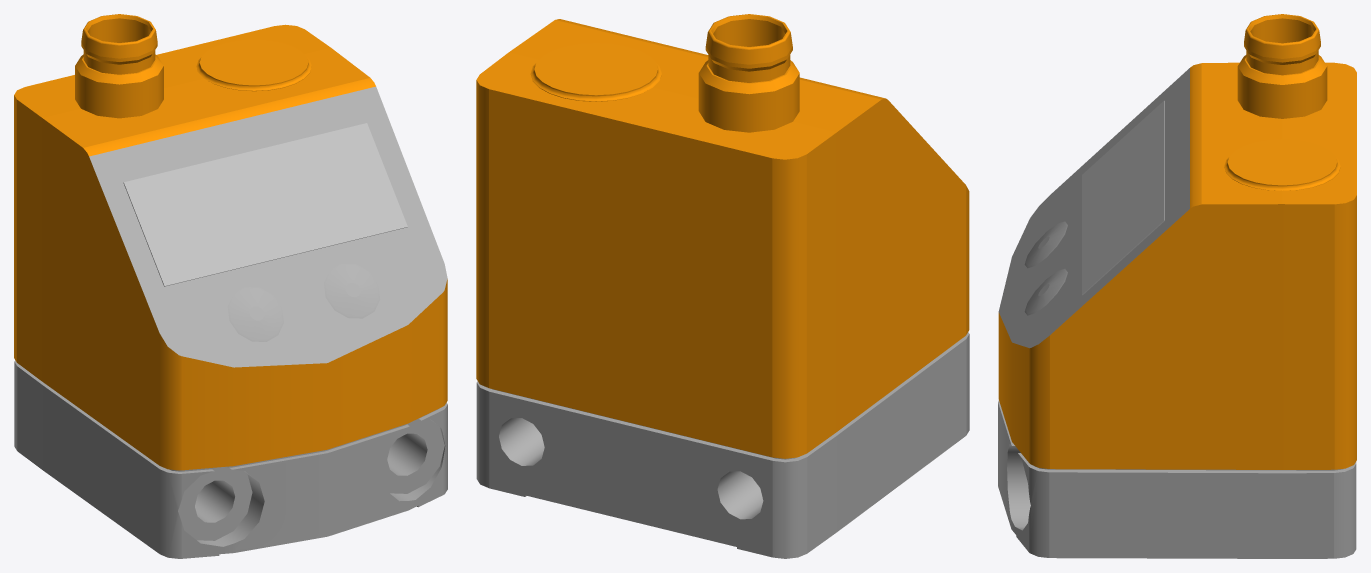
The picture shows the model from 3 angles, left to right: view 1: azimuth 30°, elevation 25°; view 2: azimuth 150°, elevation 25°; view 3: azimuth 270°, elevation 25°; orthographic projection. The views are drawn at different scales.
Parts seen in each view (by area): view 1: PQ3834_1; view 2: PQ3834_1; view 3: PQ3834_1.
Part boxes in pixels (x1,y1,x2,y2): PQ3834_1: (14,14,447,558); PQ3834_1: (476,14,969,558); PQ3834_1: (998,14,1356,558).
Bounding box in the file's own units: 30 × 41.97 × 32.05.
